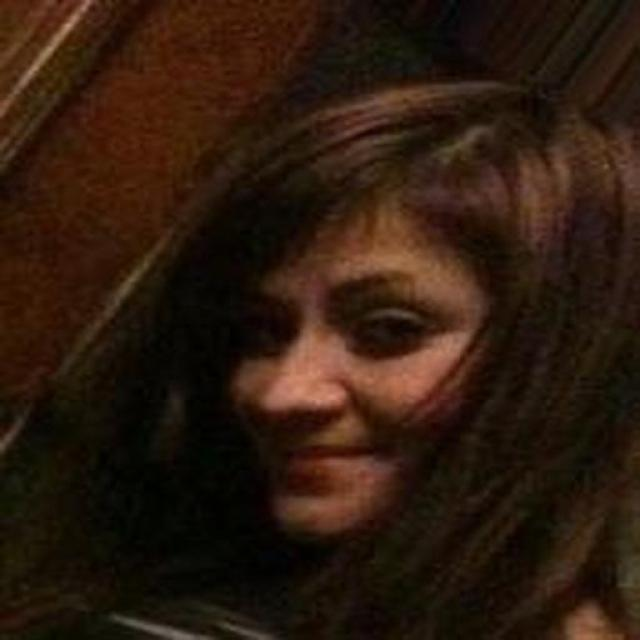bareface: (198, 104, 612, 558)
